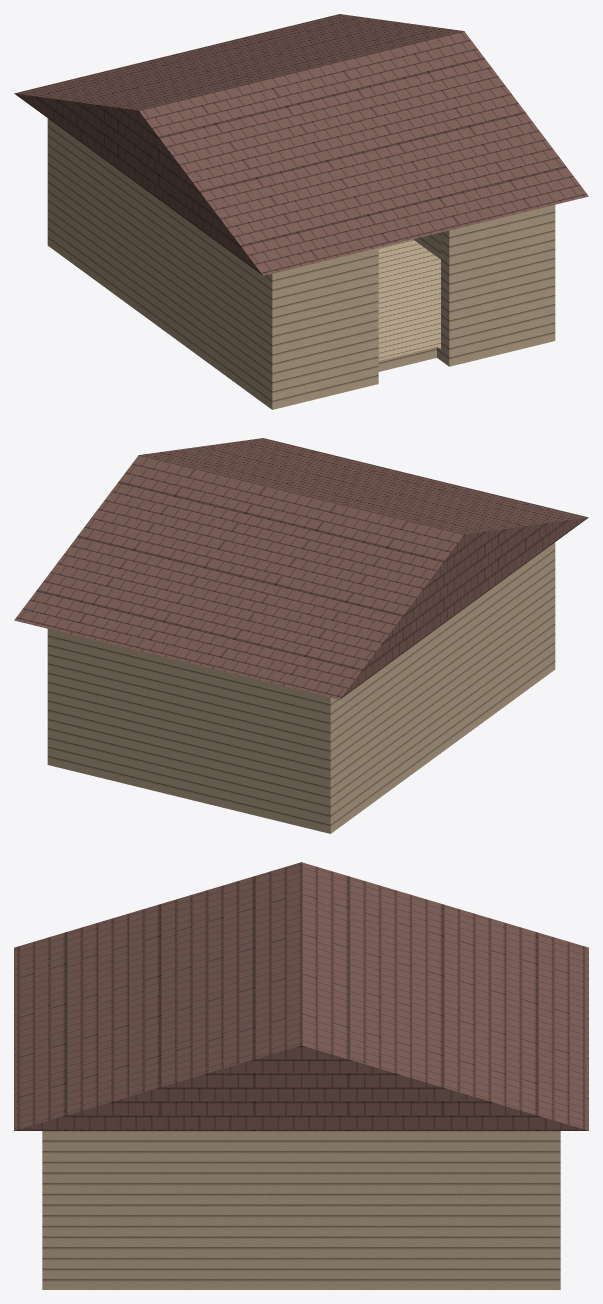
The model's file is chicken_coop.glb.
3 renders of one model, top to bottom at view 1: azimuth 30°, elevation 25°; view 2: azimuth 150°, elevation 25°; view 3: azimuth 270°, elevation 25°, orthographic. The views are drawn at different scales.
Visible parts, largest first — view 1: chicken_coop-col; view 2: chicken_coop-col; view 3: chicken_coop-col.
Boxes of the visible parts, x1,y1,x2,y2 form: chicken_coop-col: (14, 14, 588, 409); chicken_coop-col: (14, 438, 588, 833); chicken_coop-col: (14, 862, 588, 1289).
Size of the model in its own units: 4.6 by 3 by 6.1.
2 materials, 2 textured.
